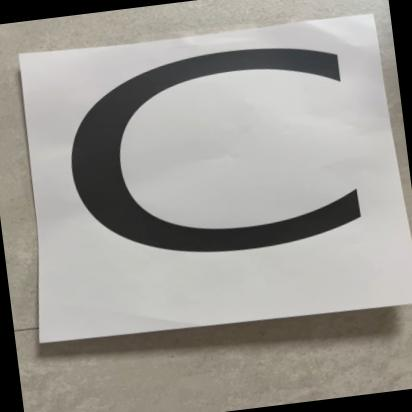seat: (14, 1, 412, 345)
